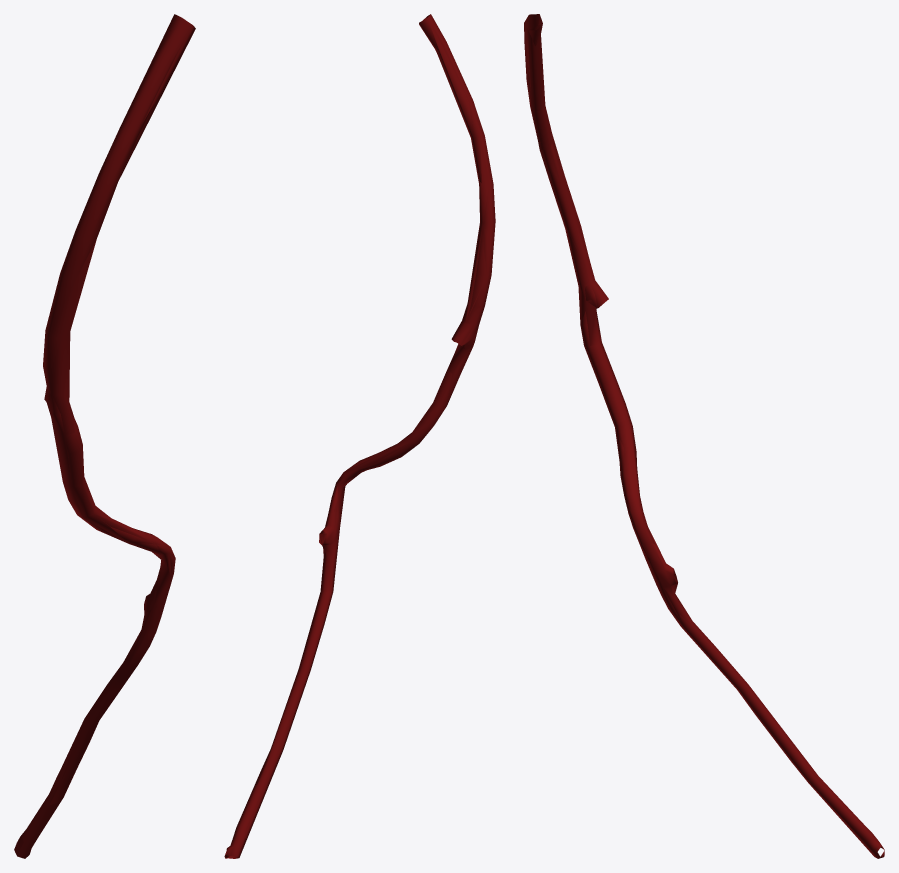
Rendered from R femoralis.fbx.
3 renders of one model, left to right at view 1: azimuth 30°, elevation 25°; view 2: azimuth 150°, elevation 25°; view 3: azimuth 270°, elevation 25°, orthographic. The views are drawn at different scales.
Parts seen in each view (by area): view 1: R femoralis, R femoralis low; view 2: R femoralis, R femoralis low; view 3: R femoralis low, R femoralis.
Boxes of the visible parts, x1,y1,x2,y2 form: R femoralis: (14,14,192,858); R femoralis low: (17,18,195,858); R femoralis: (224,14,495,858); R femoralis low: (225,14,494,858); R femoralis low: (524,14,884,856); R femoralis: (524,14,884,858).
Size of the model in its own units: 6.2 by 34.57 by 13.77.
